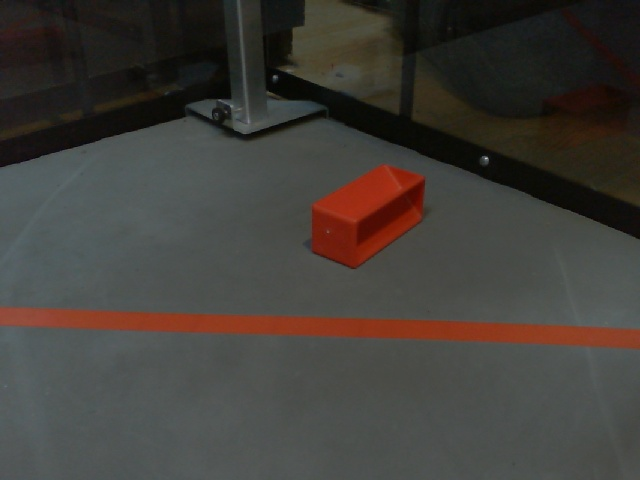RedSample: (307, 162, 428, 270)
